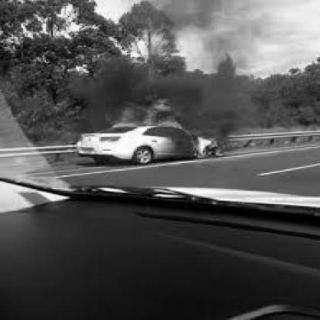Fire: (133, 96, 233, 160)
